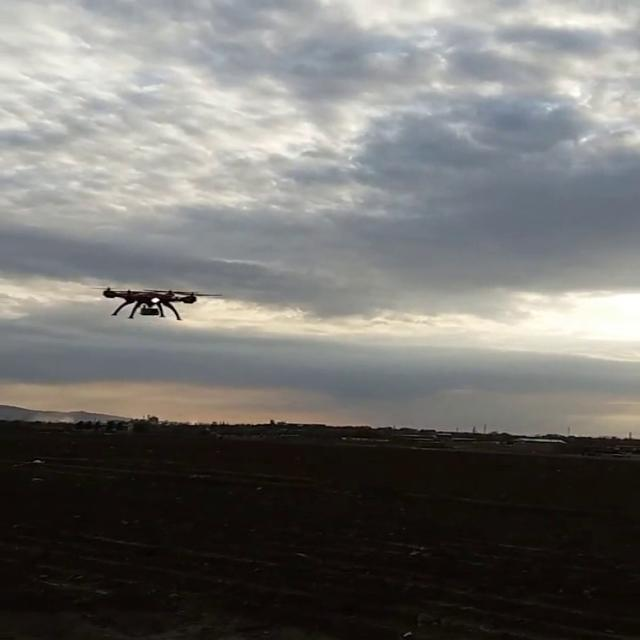drone: (88, 282, 227, 322)
